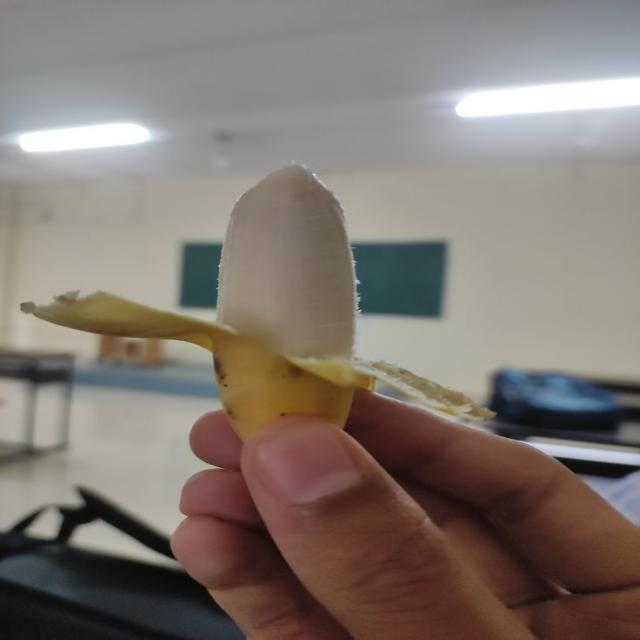banana: (22, 166, 492, 439)
